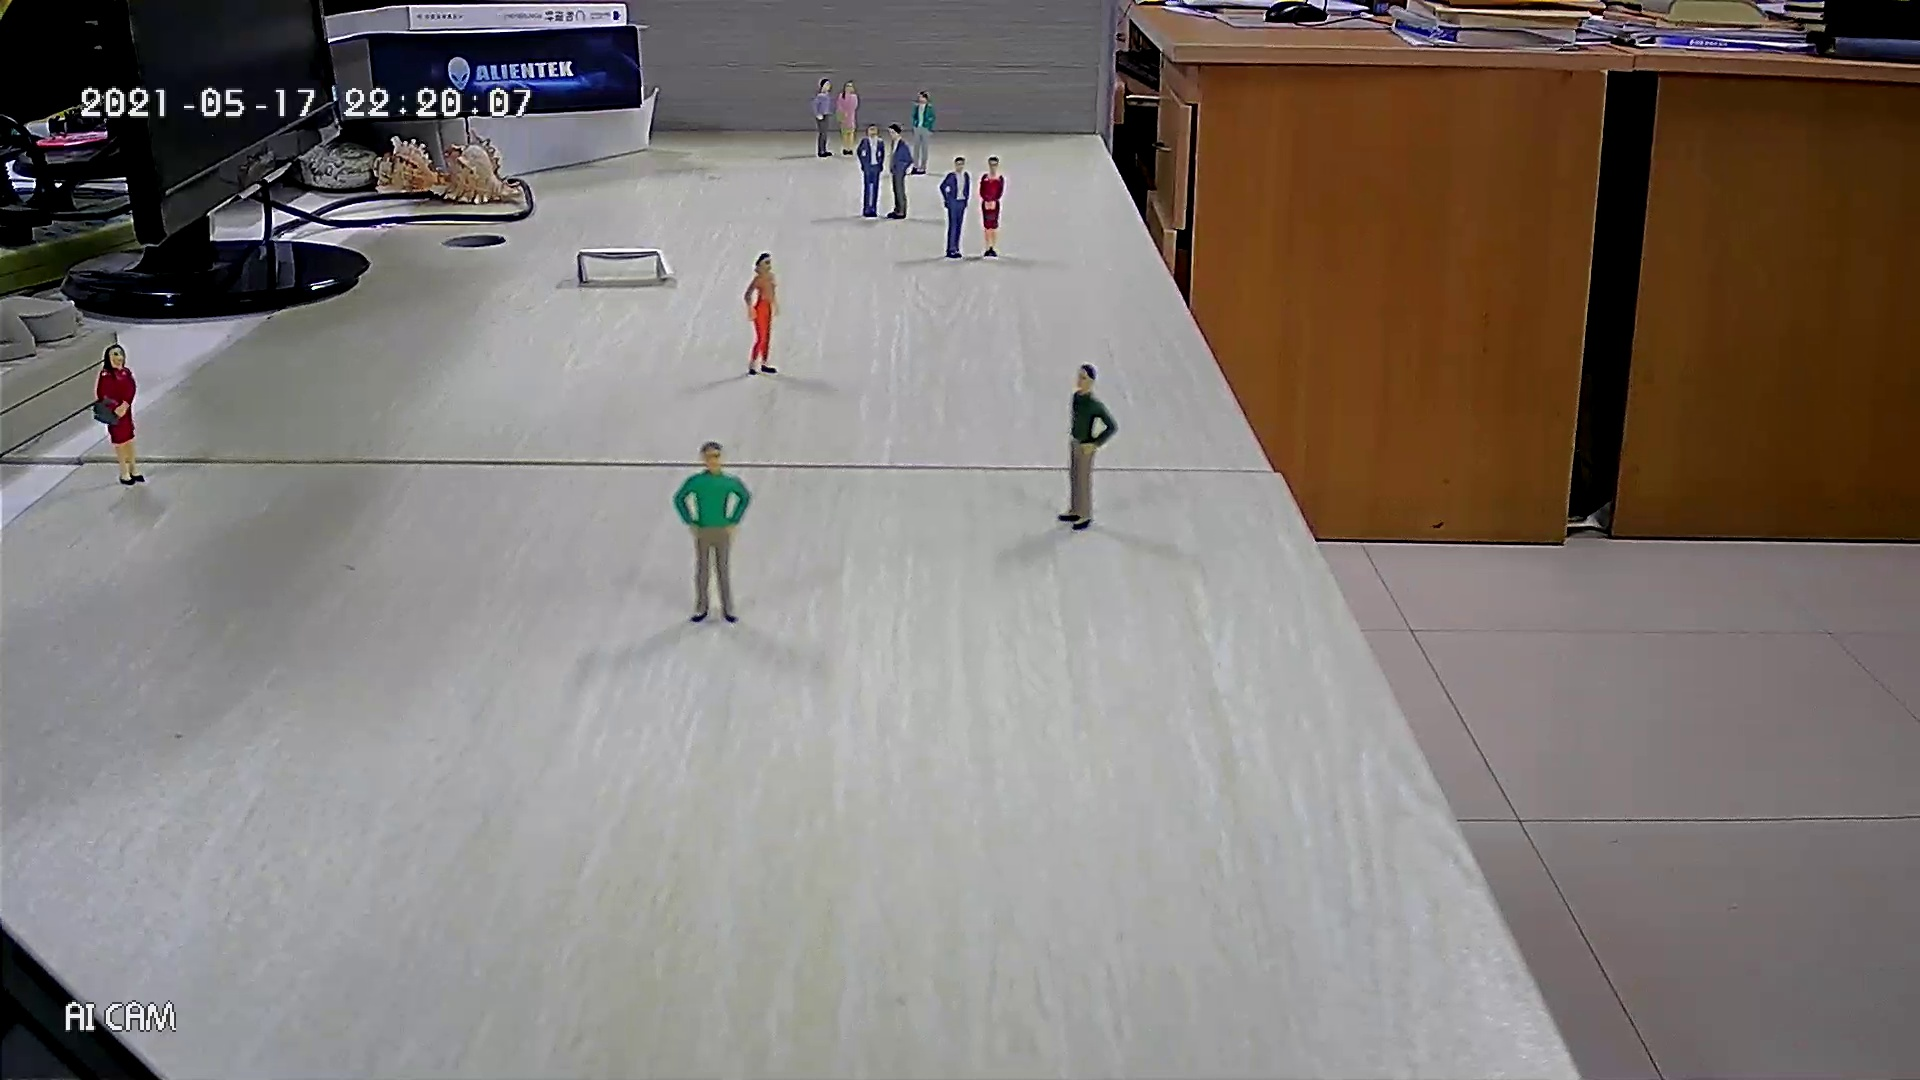person: (672, 439, 753, 625), (1057, 362, 1118, 532), (93, 343, 148, 486), (743, 250, 783, 376), (939, 155, 972, 259), (854, 123, 886, 218), (978, 155, 1006, 258), (886, 123, 914, 221), (910, 90, 937, 176), (810, 77, 835, 159), (834, 80, 860, 157)
